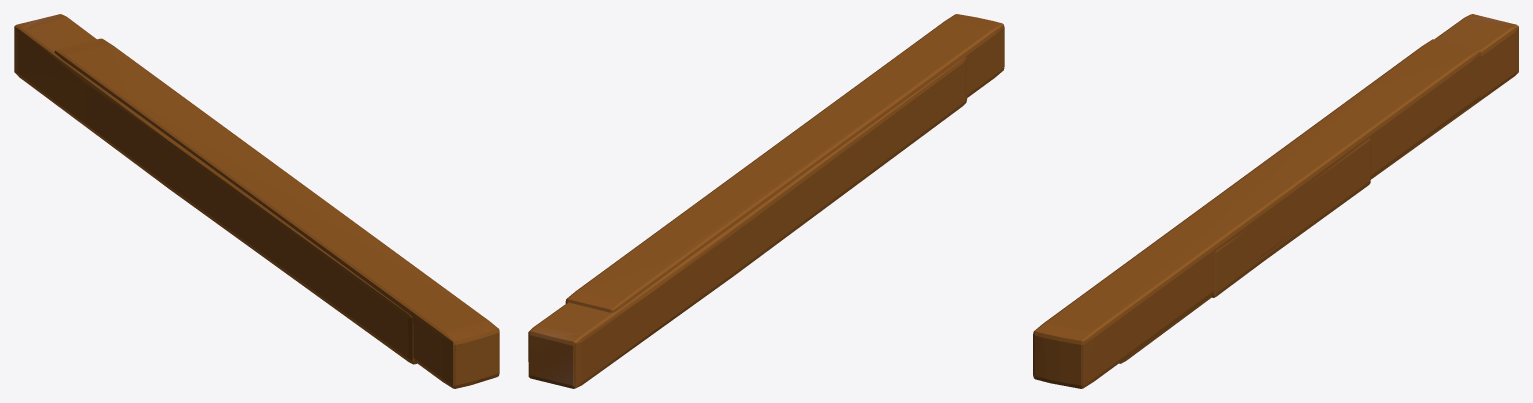
The model's file is WoodenBeams.fbx.
3 views of the same model, side by side, from view 1: azimuth 30°, elevation 25°; view 2: azimuth 150°, elevation 25°; view 3: azimuth 330°, elevation 25° (orthographic). The views are drawn at different scales.
Parts seen in each view (by area): view 1: WoodenBeam, WoodenBeam.001; view 2: WoodenBeam.001, WoodenBeam; view 3: WoodenBeam, WoodenBeam.002, WoodenBeam.001.
Part boxes in pixels (left/top/right/bottom): WoodenBeam: left=54, top=38, right=499, bottom=388; WoodenBeam.001: left=14, top=14, right=416, bottom=364; WoodenBeam.001: left=528, top=57, right=967, bottom=388; WoodenBeam: left=565, top=14, right=1004, bottom=312; WoodenBeam: left=1033, top=39, right=1480, bottom=388; WoodenBeam.002: left=1212, top=138, right=1370, bottom=297; WoodenBeam.001: left=1119, top=14, right=1518, bottom=363.
Size of the model in its own units: 0.471 by 0.4572 by 6.63.
